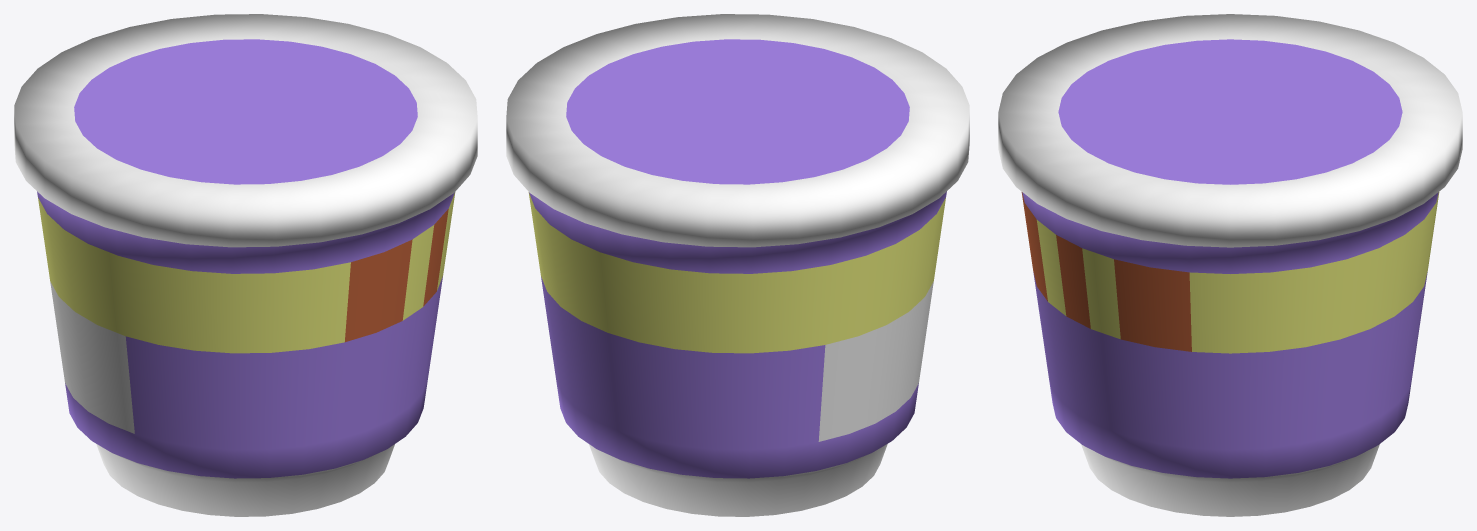
File: Trash_Yogurt.glb
3 renders of one model, left to right at view 1: azimuth 30°, elevation 25°; view 2: azimuth 150°, elevation 25°; view 3: azimuth 270°, elevation 25°, orthographic.
Parts seen in each view (by area): view 1: Cylinder; view 2: Cylinder; view 3: Cylinder.
Part boxes in pixels (x1,y1,x2,y2): Cylinder: (14, 14, 477, 516); Cylinder: (506, 14, 969, 516); Cylinder: (998, 14, 1462, 516).
Bounding box in the file's own units: 0.3348 × 0.274 × 0.3348.
Materials: 1 (1 with a texture image).
